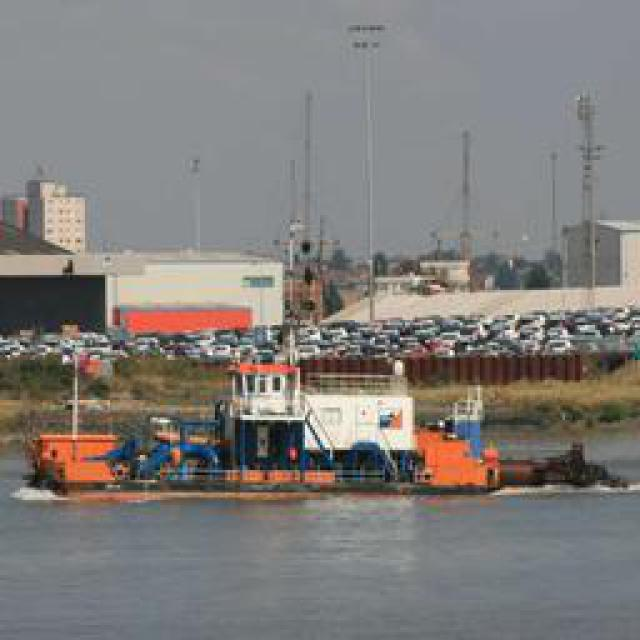Ship: (27, 402, 507, 495)
